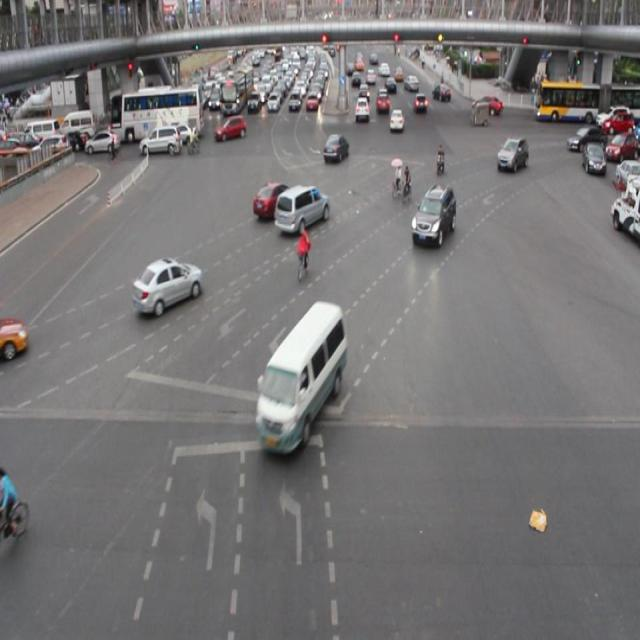car: (131, 254, 203, 318), (408, 182, 457, 249), (253, 180, 292, 221), (1, 310, 31, 362), (495, 134, 528, 173), (322, 134, 348, 167)
truck: (256, 300, 345, 453), (274, 184, 330, 231)
